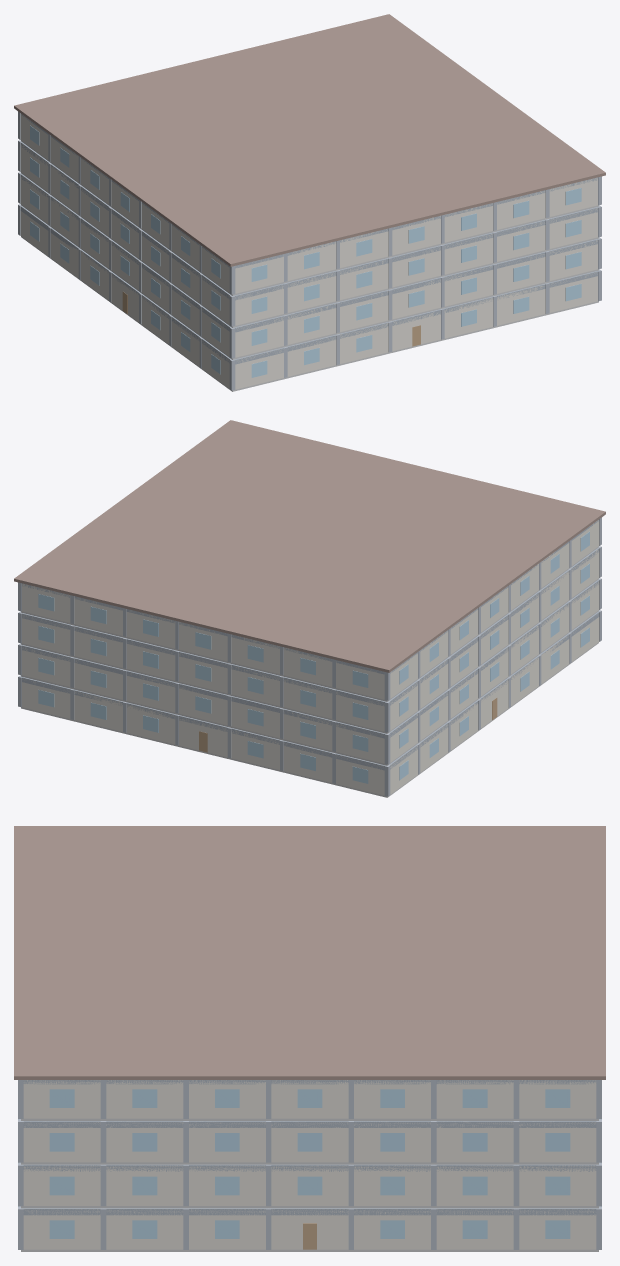
The model's file is Sample Building.glb.
3 views of the same model, one above another, from view 1: azimuth 30°, elevation 25°; view 2: azimuth 150°, elevation 25°; view 3: azimuth 270°, elevation 25° (orthographic). The views are drawn at different scales.
Parts seen in each view (by area): view 1: element_101233, element_100275, element_100273, element_100888, element_100277, element_100575, element_100271, element_101193, element_100890, element_101203, element_100581, element_100269 (+45 smaller); view 2: element_101233, element_100259, element_100261, element_100263, element_100874, element_100561, element_100257, element_101179, element_101189, element_100567, element_100876, element_100255 (+45 smaller); view 3: element_101233, element_100611, element_100603, element_100607, element_100613, element_100601, element_100609, element_100605, element_101231, element_101229, element_101221, element_101219 (+25 smaller).
Boxes of the visible parts, box(x1,y1,x2,y2) form: element_101233: box(14, 14, 605, 266); element_100275: box(444, 297, 493, 338); element_100273: box(392, 311, 440, 351); element_100888: box(287, 272, 336, 312); element_100277: box(497, 284, 545, 325); element_100575: box(287, 303, 336, 344); element_100271: box(340, 323, 388, 363); element_101193: box(287, 242, 336, 280); element_100890: box(340, 259, 388, 299); element_101203: box(549, 178, 597, 216); element_100581: box(444, 265, 493, 306); element_100269: box(287, 335, 336, 376); element_101233: box(14, 420, 605, 672); element_100259: box(179, 716, 227, 757); element_100261: box(126, 704, 175, 744); element_100263: box(74, 691, 122, 731); element_100874: box(283, 678, 332, 718); element_100561: box(283, 710, 332, 750); element_100257: box(231, 730, 279, 769); element_101179: box(283, 648, 332, 686); element_101189: box(22, 583, 70, 622); element_100567: box(126, 672, 175, 712); element_100876: box(231, 665, 279, 705); element_100255: box(283, 742, 332, 782); element_101233: box(14, 826, 605, 1079); element_100611: box(106, 1165, 183, 1205); element_100603: box(436, 1165, 513, 1205); element_100607: box(271, 1165, 348, 1205); element_100613: box(23, 1165, 100, 1205); element_100601: box(519, 1165, 596, 1205); element_100609: box(189, 1165, 265, 1205); element_100605: box(354, 1165, 430, 1205); element_101231: box(23, 1080, 100, 1118); element_101229: box(106, 1080, 183, 1118); element_101221: box(436, 1080, 513, 1118); element_101219: box(519, 1080, 596, 1118).
Bounding box in the file's own units: 43 × 14.3 × 43.
